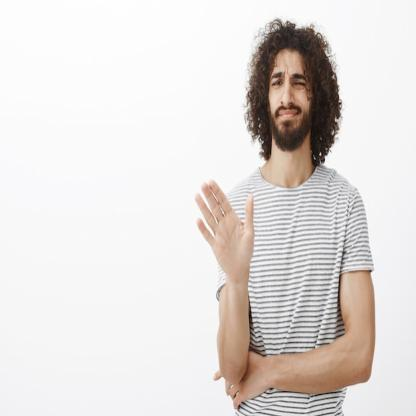stop: (192, 174, 257, 288)
